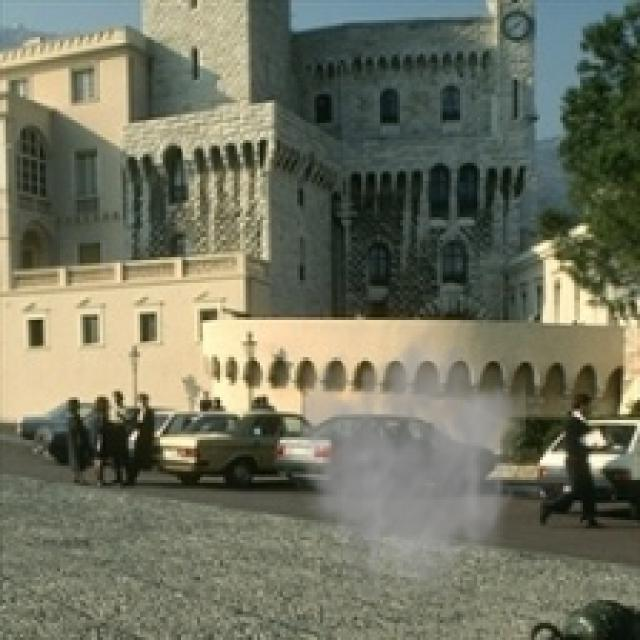Smoke: (280, 326, 526, 608)
